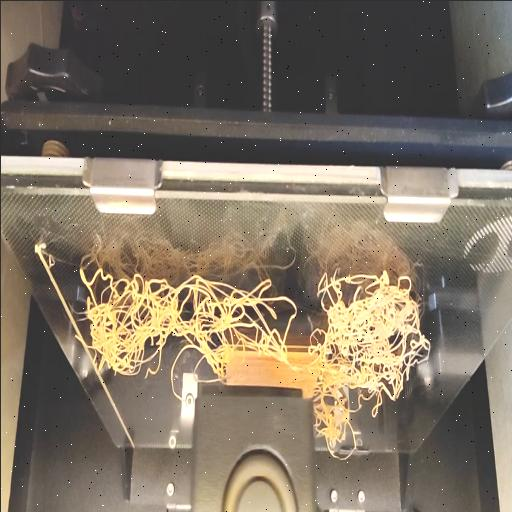spaghetti: (74, 255, 430, 397), (314, 394, 389, 466)
